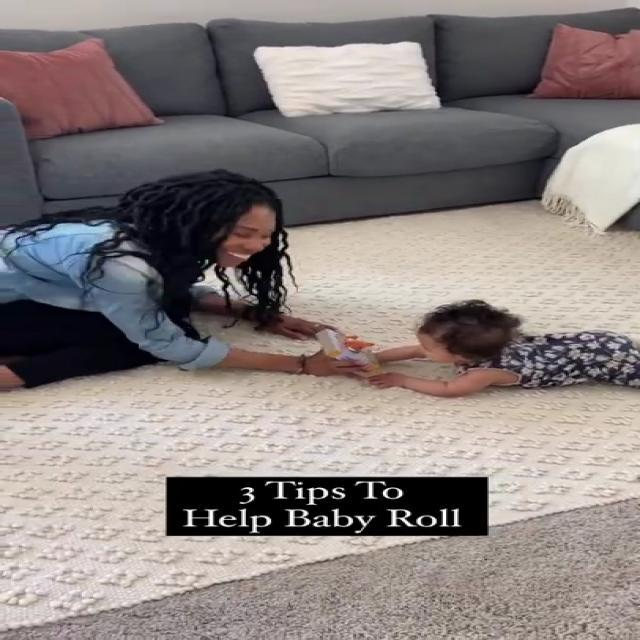baby: (355, 296, 640, 400)
